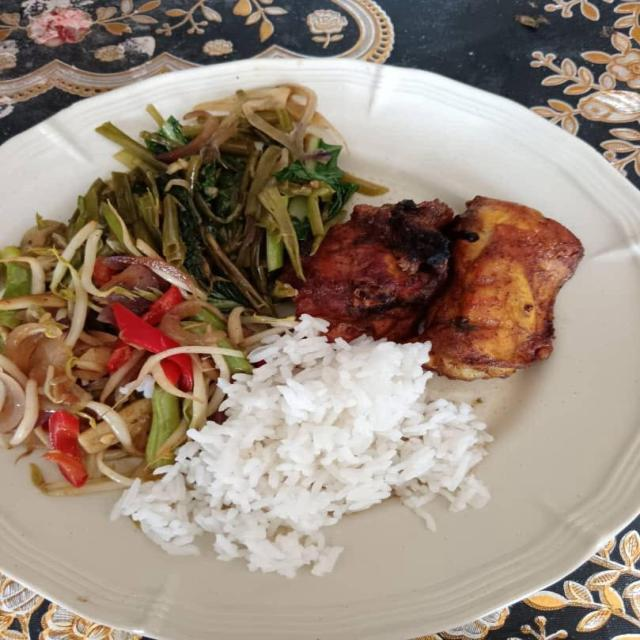Chicken: (285, 198, 586, 381)
Plate: (0, 60, 639, 639)
Rice: (106, 319, 496, 583)
Vegetables: (0, 87, 398, 497)
